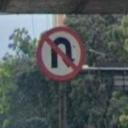NoVirarU: (35, 24, 86, 82)
